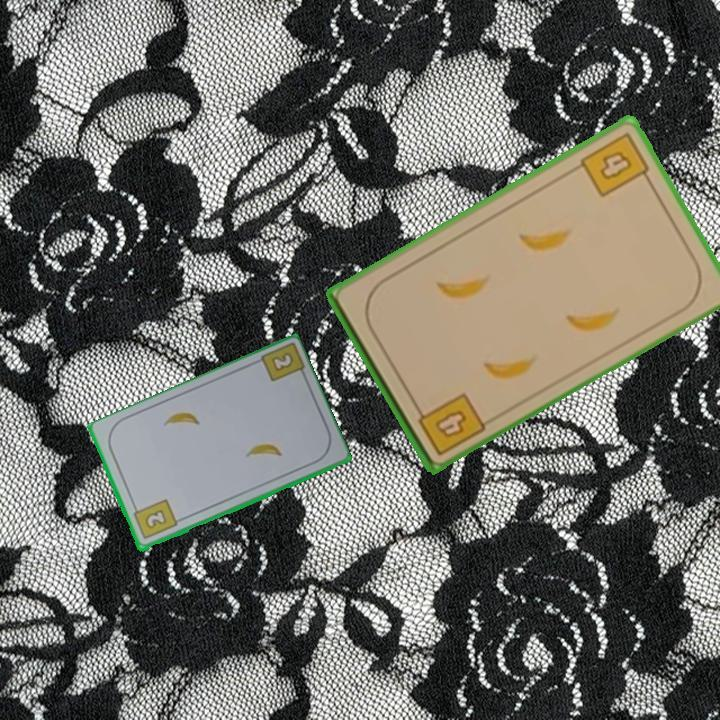2b: (130, 496, 180, 542), (270, 351, 294, 372)
4b: (576, 128, 655, 200), (411, 389, 488, 458)
